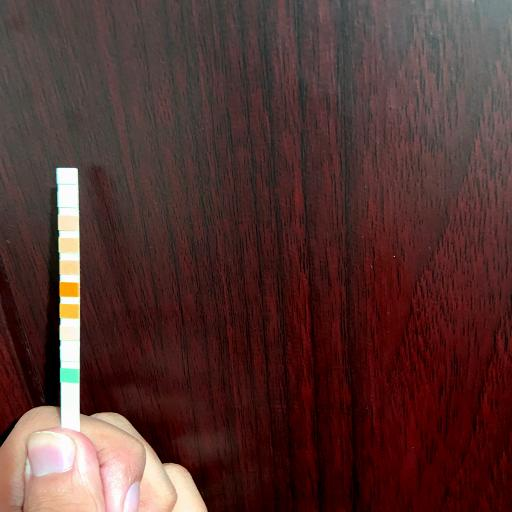Bilirubin: (60, 348, 80, 362)
Blood: (60, 282, 80, 296)
Glucose: (61, 370, 79, 382)
Ketone: (60, 326, 80, 340)
Leukocytes: (57, 168, 77, 184)
Nitrite: (58, 192, 78, 206)
Protein: (58, 238, 80, 252)
SpGravity: (60, 304, 80, 318)
Urobilinogen: (58, 216, 80, 230)
pH: (60, 260, 80, 274)
strip: (57, 168, 80, 423)
